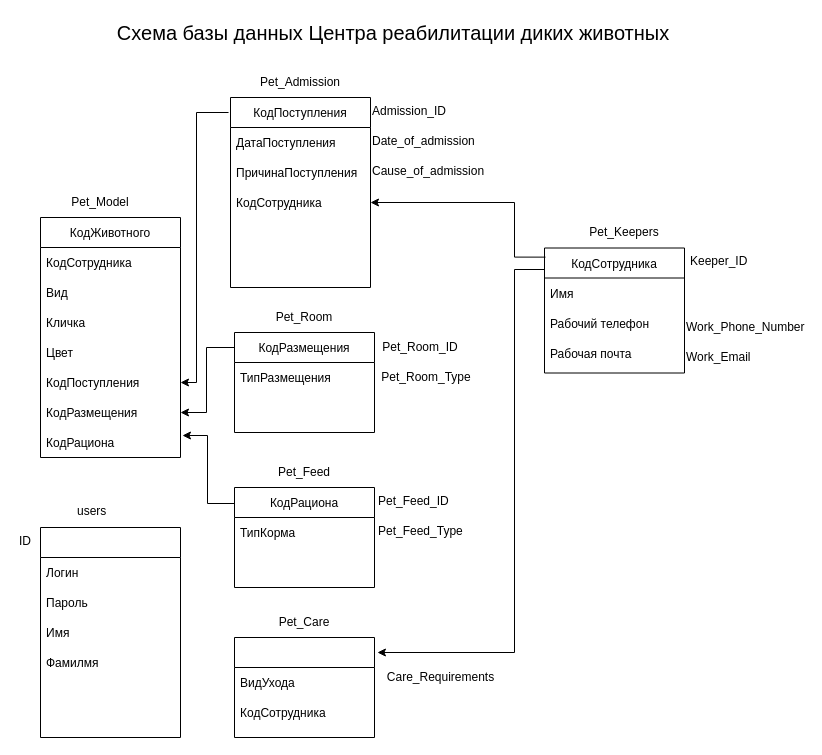
This 822x755 diagram has some shape labels left out. The box of each missing label's shape, as (x1, y1, x2, y2) in pixels:
КодПользователя/ Админа: (40, 526, 180, 738)
КодУхода: (234, 636, 374, 738)
